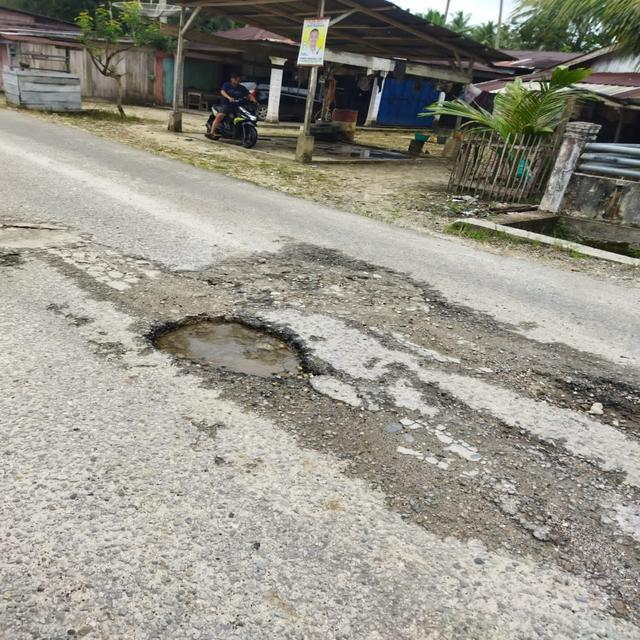Lubang: (153, 308, 313, 374), (533, 376, 640, 428)
